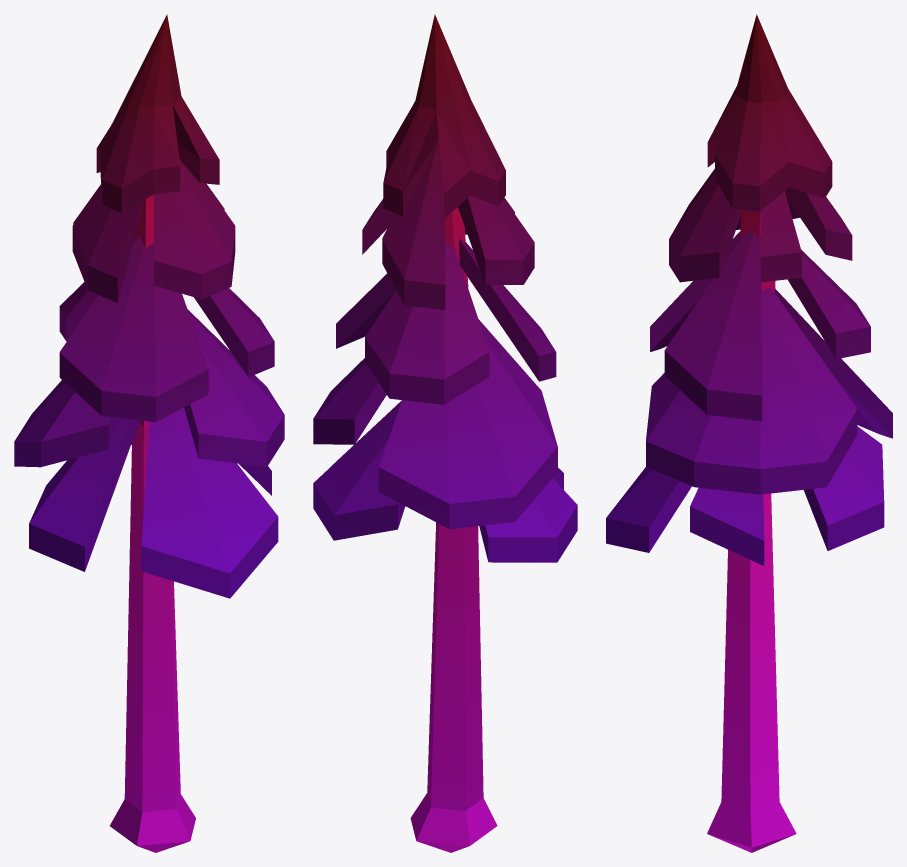
File: synty-tree-polypine-sparse-03.gltf
3 renders of one model, left to right at view 1: azimuth 30°, elevation 25°; view 2: azimuth 150°, elevation 25°; view 3: azimuth 270°, elevation 25°, orthographic.
Visible parts, largest first — view 1: SM_Tree_PolyPine_Sparse_03; view 2: SM_Tree_PolyPine_Sparse_03; view 3: SM_Tree_PolyPine_Sparse_03.
Boxes of the visible parts, <box> form: SM_Tree_PolyPine_Sparse_03: <box>14,14,284,852</box>; SM_Tree_PolyPine_Sparse_03: <box>313,14,577,852</box>; SM_Tree_PolyPine_Sparse_03: <box>606,14,892,852</box>.
Size of the model in its own units: 1.19 by 4.09 by 1.26.
